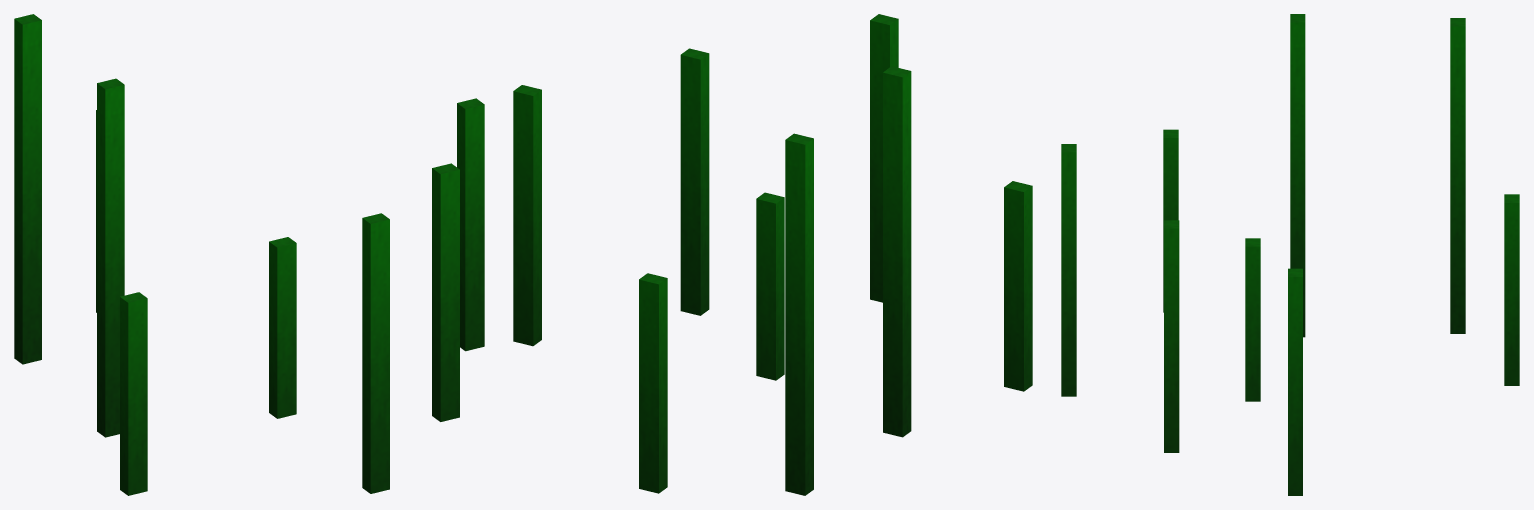
Rendered from grass.fbx.
The picture shows the model from 3 angles, left to right: view 1: azimuth 30°, elevation 25°; view 2: azimuth 150°, elevation 25°; view 3: azimuth 270°, elevation 25°; orthographic projection. The views are drawn at different scales.
Parts seen in each view (by area): view 1: Plane.002; view 2: Plane.002; view 3: Plane.002.
Part boxes in pixels (box(x1,y1,x2,y2)): Plane.002: box(14, 14, 484, 495); Plane.002: box(513, 14, 1032, 495); Plane.002: box(1061, 14, 1519, 495).
Bounding box in the file's own units: 0.5374 × 0.421 × 0.5546.
